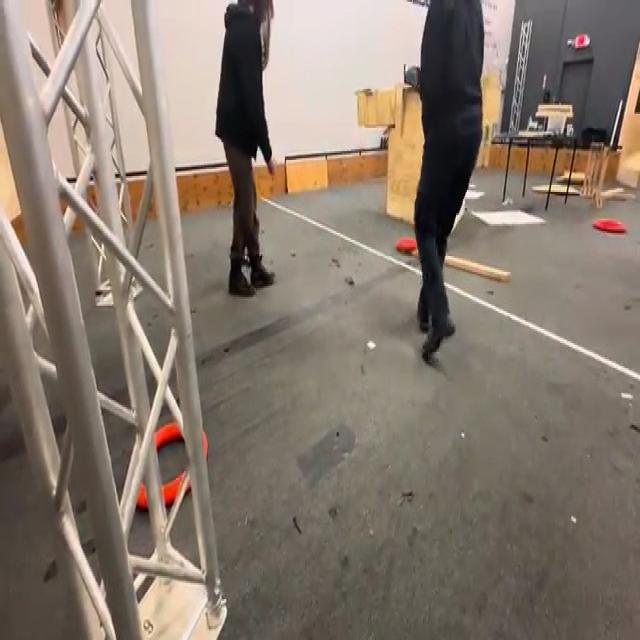note: (130, 416, 210, 515), (593, 216, 628, 236), (396, 238, 419, 252)
